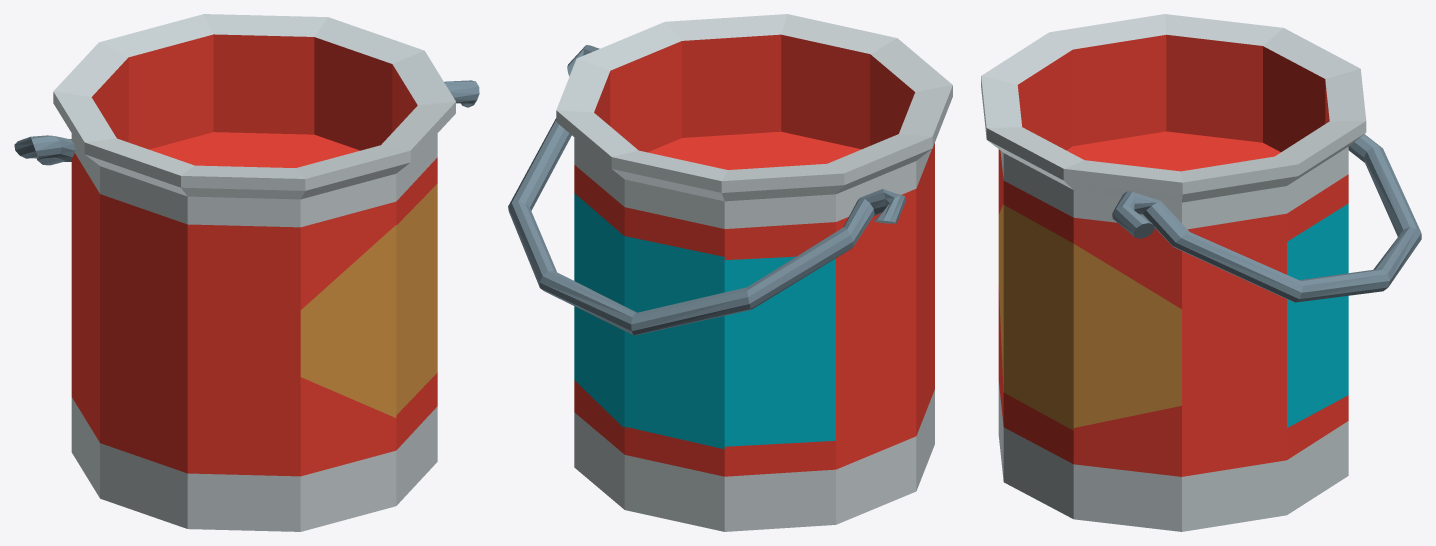
The model's file is Paint Bucket.glb.
3 views of the same model, side by side, from view 1: azimuth 30°, elevation 25°; view 2: azimuth 150°, elevation 25°; view 3: azimuth 270°, elevation 25° (orthographic).
Visible parts, largest first — view 1: Paint Bucket; view 2: Paint Bucket; view 3: Paint Bucket.
Boxes of the visible parts, x1,y1,x2,y2 form: Paint Bucket: (14,14,479,531); Paint Bucket: (508,14,952,531); Paint Bucket: (981,14,1421,531).
Size of the model in its own units: 0.15 by 0.1309 by 0.1465.
